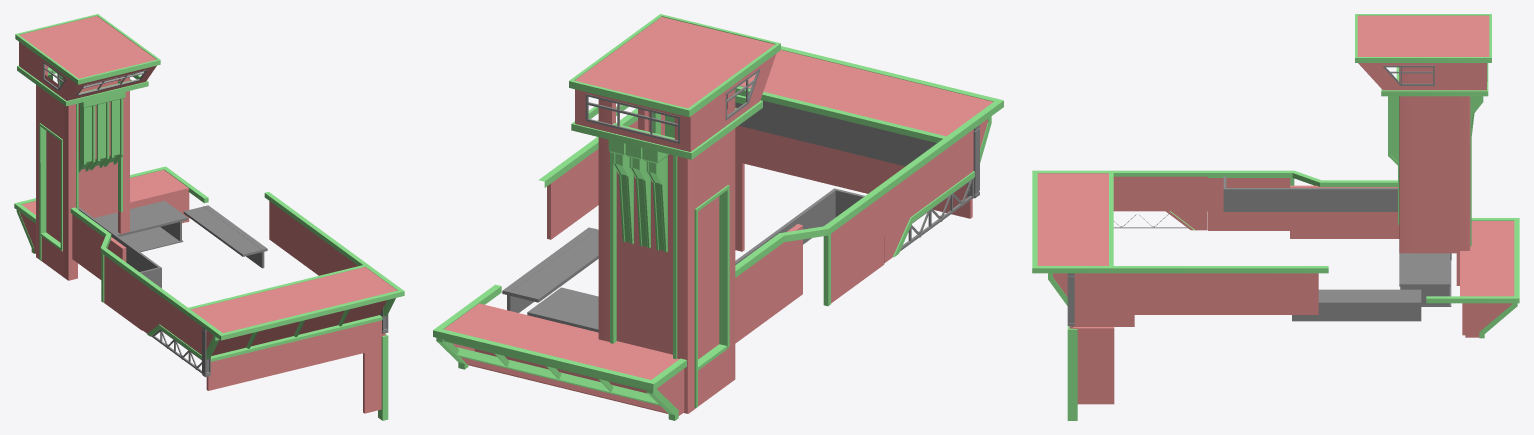
The model's file is S_Envi_Olgk_Buiding_Merge_06.gltf.
3 renders of one model, left to right at view 1: azimuth 30°, elevation 25°; view 2: azimuth 150°, elevation 25°; view 3: azimuth 270°, elevation 25°, orthographic. The views are drawn at different scales.
Parts seen in each view (by area): view 1: S_Envi_Olgk_Buiding_Merge_06; view 2: S_Envi_Olgk_Buiding_Merge_06; view 3: S_Envi_Olgk_Buiding_Merge_06.
Boxes of the visible parts, x1,y1,x2,y2 form: S_Envi_Olgk_Buiding_Merge_06: [14, 14, 404, 420]; S_Envi_Olgk_Buiding_Merge_06: [433, 14, 1003, 420]; S_Envi_Olgk_Buiding_Merge_06: [1032, 14, 1519, 420].
Size of the model in its own units: 42.7 by 63.62 by 90.05.
